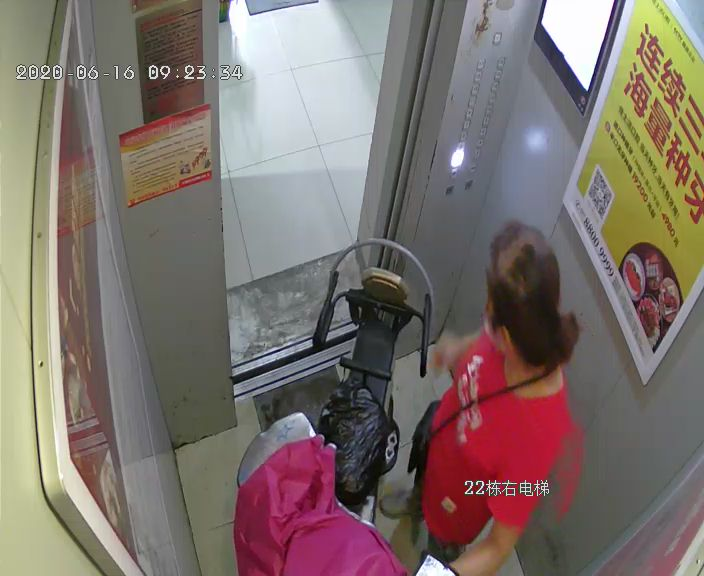Electric-bicycle: (257, 239, 435, 574)
